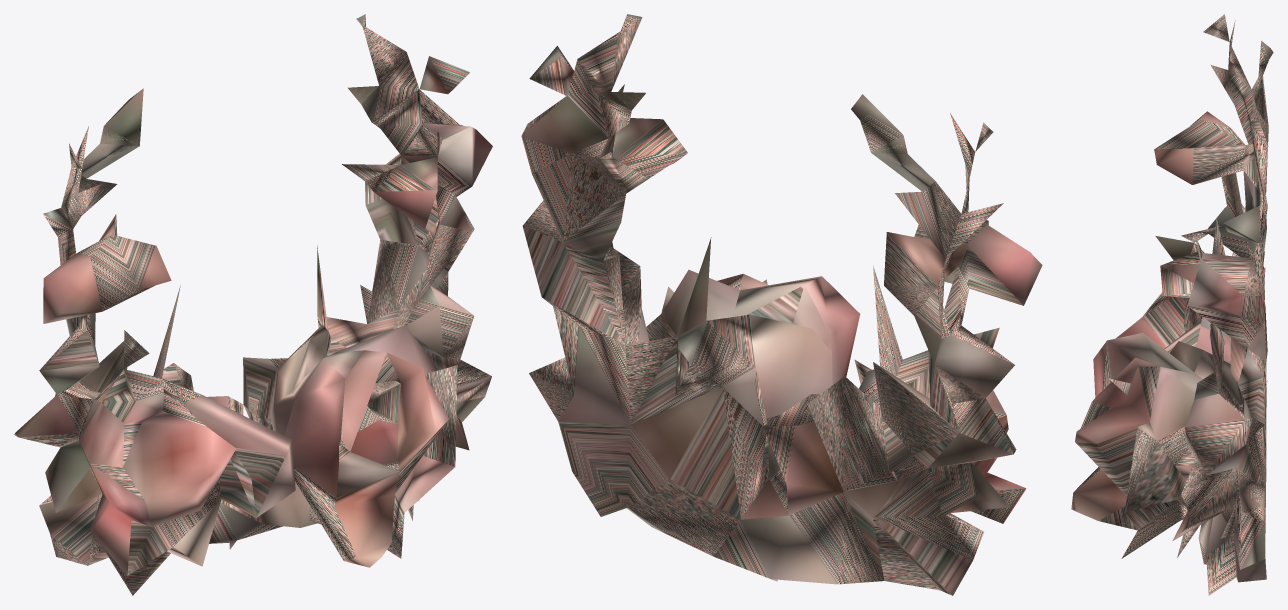
3 renders of one model, left to right at view 1: azimuth 30°, elevation 25°; view 2: azimuth 150°, elevation 25°; view 3: azimuth 270°, elevation 25°, orthographic. The views are drawn at different scales.
Parts seen in each view (by area): view 1: Rose-Spray-9-28; view 2: Rose-Spray-9-28; view 3: Rose-Spray-9-28.
Boxes of the visible parts, bbox=[...] form: Rose-Spray-9-28: bbox=[14, 14, 492, 595]; Rose-Spray-9-28: bbox=[521, 14, 1042, 595]; Rose-Spray-9-28: bbox=[1071, 14, 1273, 595].
Size of the model in its own units: 0.233 by 0.2397 by 0.0932.
1 material, 1 textured.
